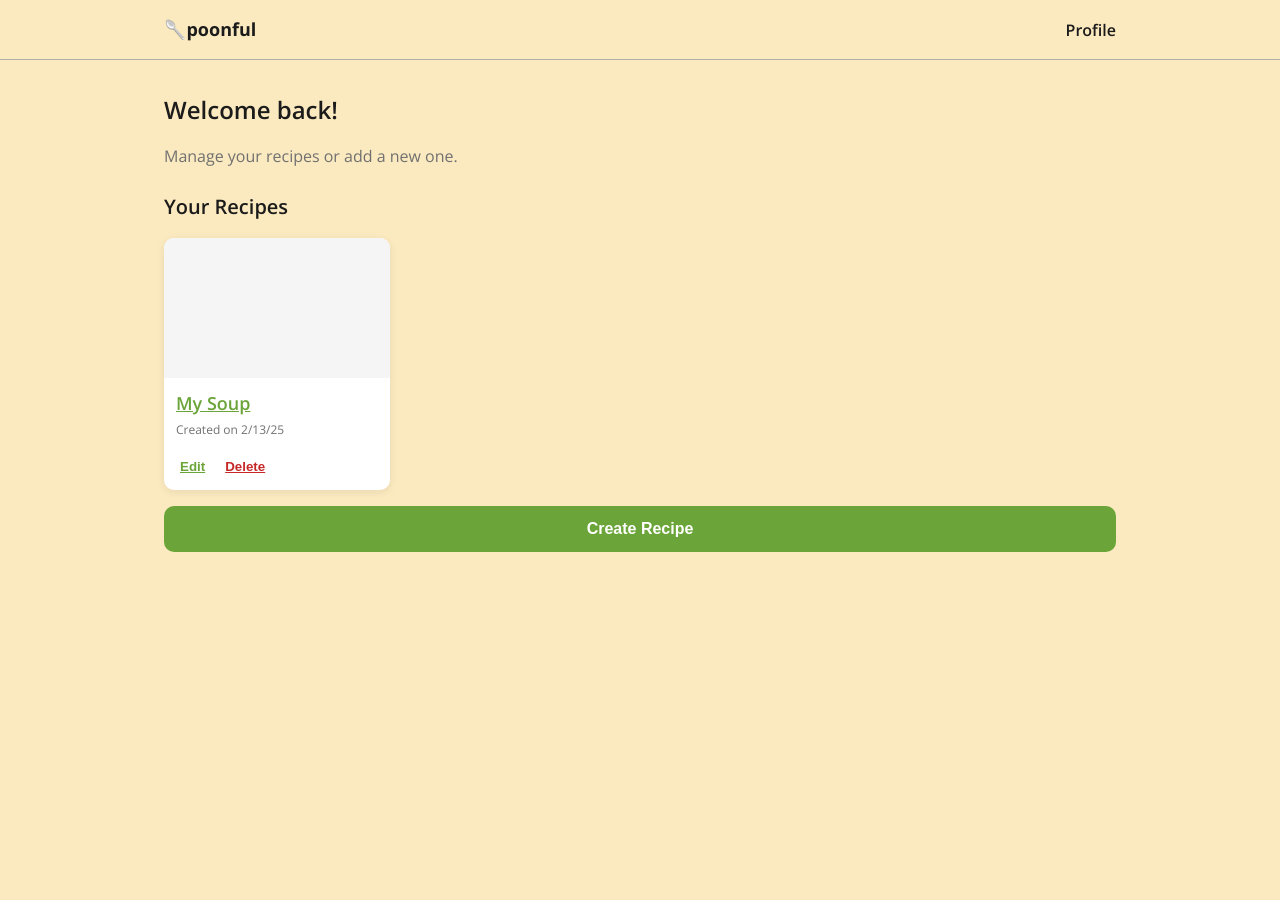
Test: Dashboard › deletes a recipe after confirming
Check: the heading "My Soup" is shown, box [176,391,250,415]
Click the button "Delete". click: (245, 466)
box: [221,455,269,478]
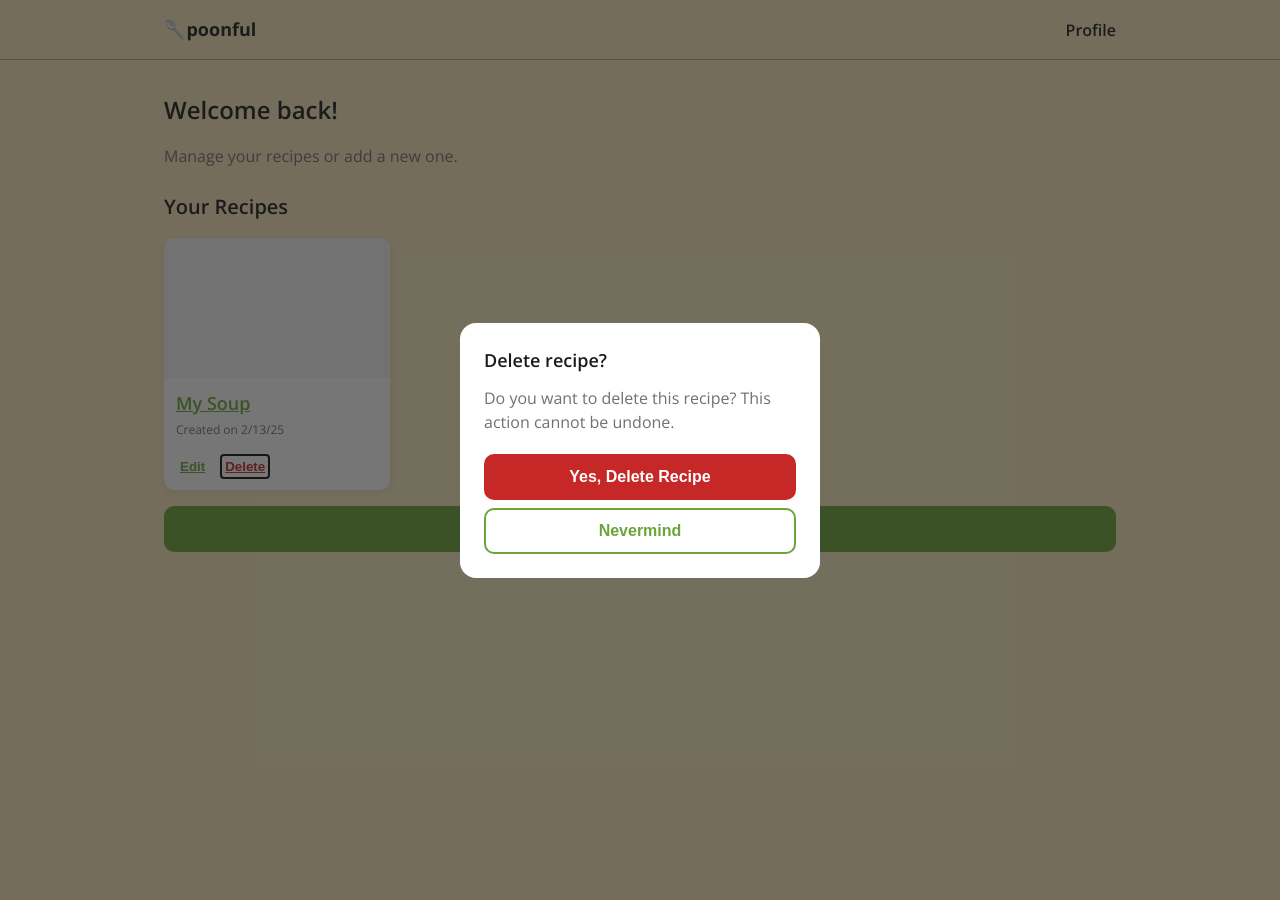
Click the button "Yes, Delete Recipe". click: (640, 476)
box: [484,454,796,500]
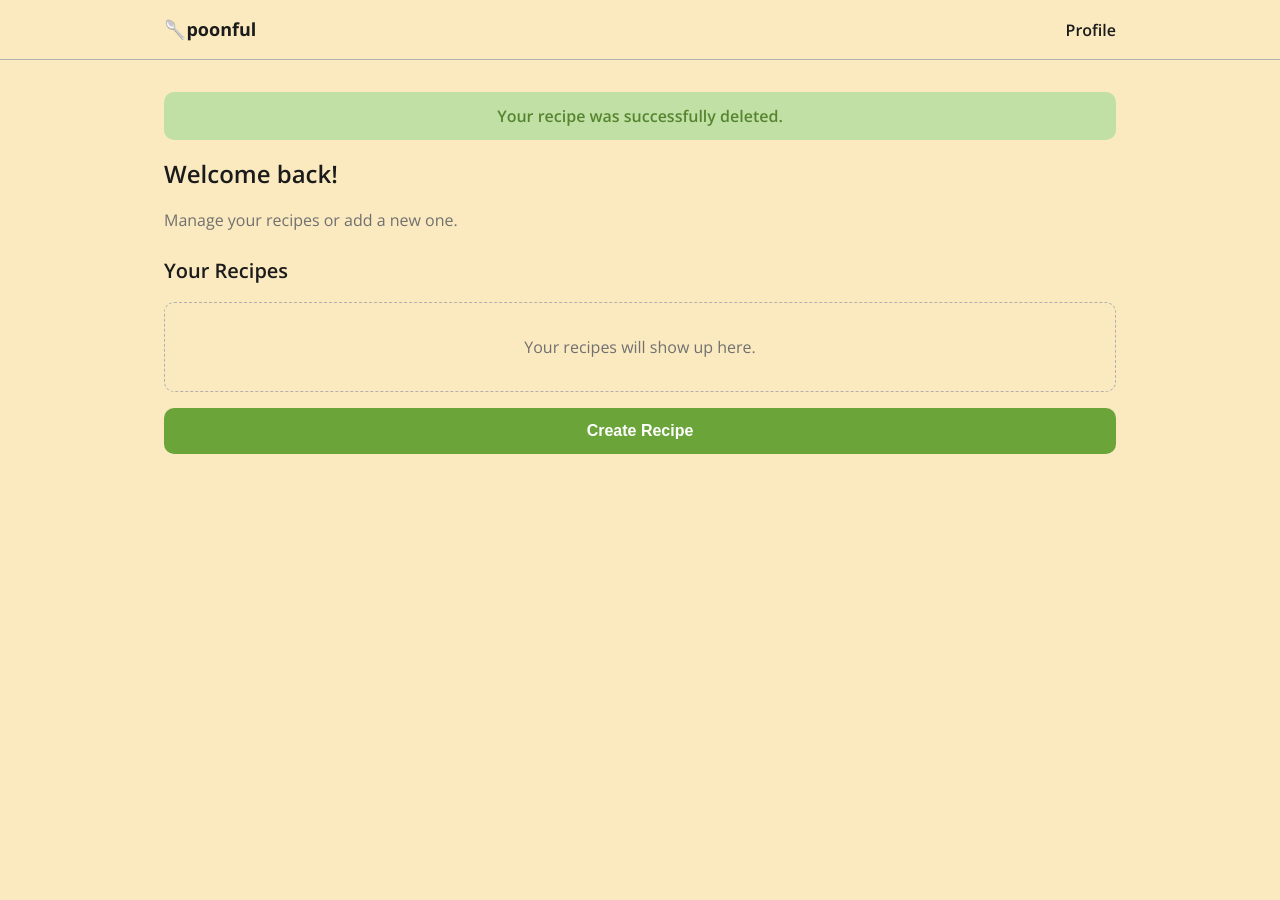
Check: the text "Your recipe was successfully deleted." is shown, box [164,92,1116,140]
